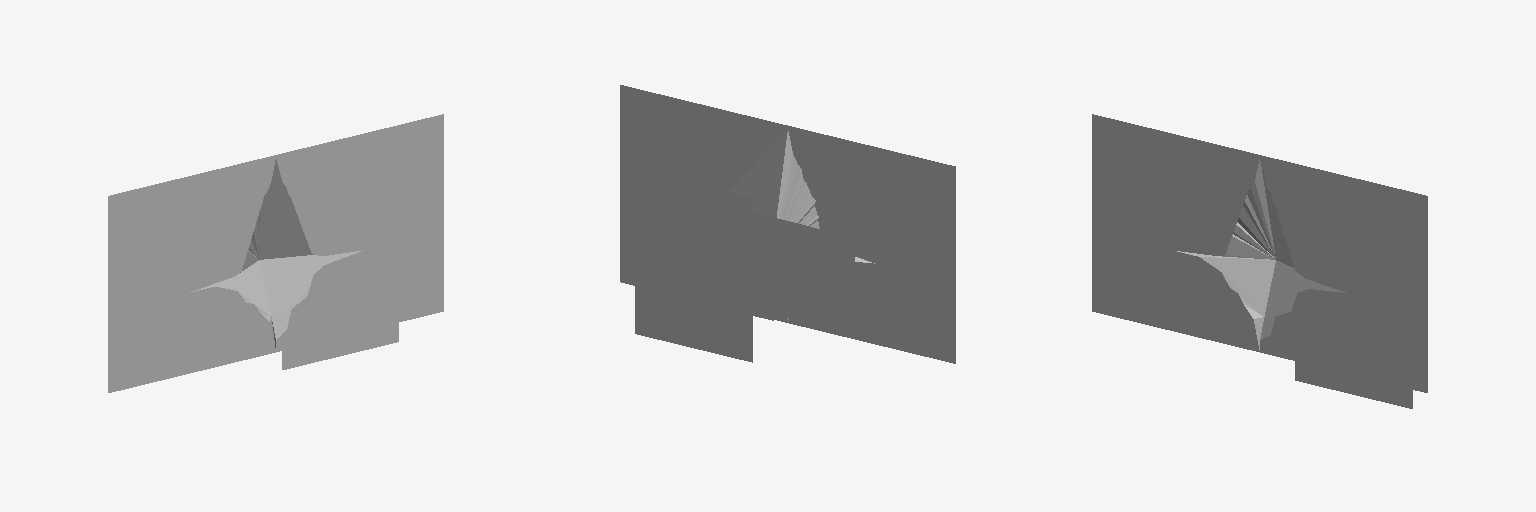
The model's file is sao.obj.
3 views of the same model, side by side, from view 1: azimuth 30°, elevation 25°; view 2: azimuth 150°, elevation 25°; view 3: azimuth 330°, elevation 25° (orthographic).
Parts seen in each view (by area): view 1: sao_1_pers.000_sao_1_pers.005, sao_1_pers.004; view 2: sao_1_pers.000_sao_1_pers.005, sao_1_pers.004; view 3: sao_1_pers.000_sao_1_pers.005, sao_1_pers.004.
Part boxes in pixels (left/top/right/bottom): sao_1_pers.000_sao_1_pers.005: left=108, top=114, right=443, bottom=392; sao_1_pers.004: left=282, top=323, right=398, bottom=369; sao_1_pers.000_sao_1_pers.005: left=620, top=85, right=955, bottom=363; sao_1_pers.004: left=635, top=169, right=854, bottom=362; sao_1_pers.000_sao_1_pers.005: left=1092, top=114, right=1427, bottom=392; sao_1_pers.004: left=1295, top=361, right=1412, bottom=408.
Bounding box in the file's own units: 343 × 226 × 70.86.